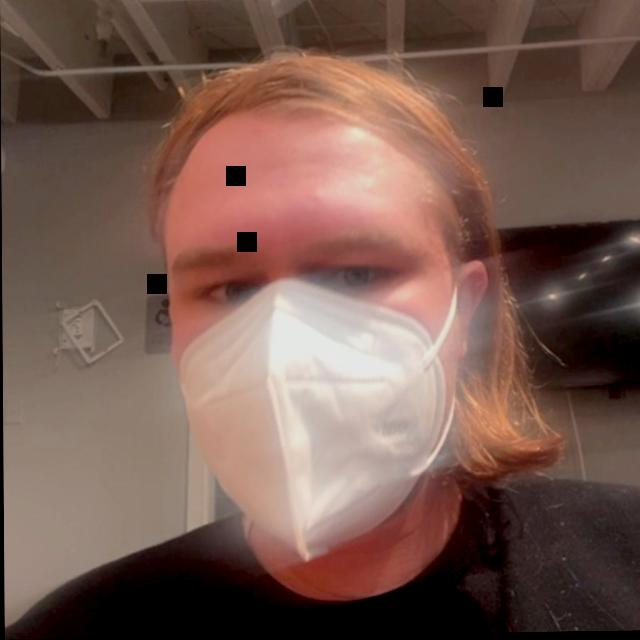Mask: (164, 41, 585, 605)
